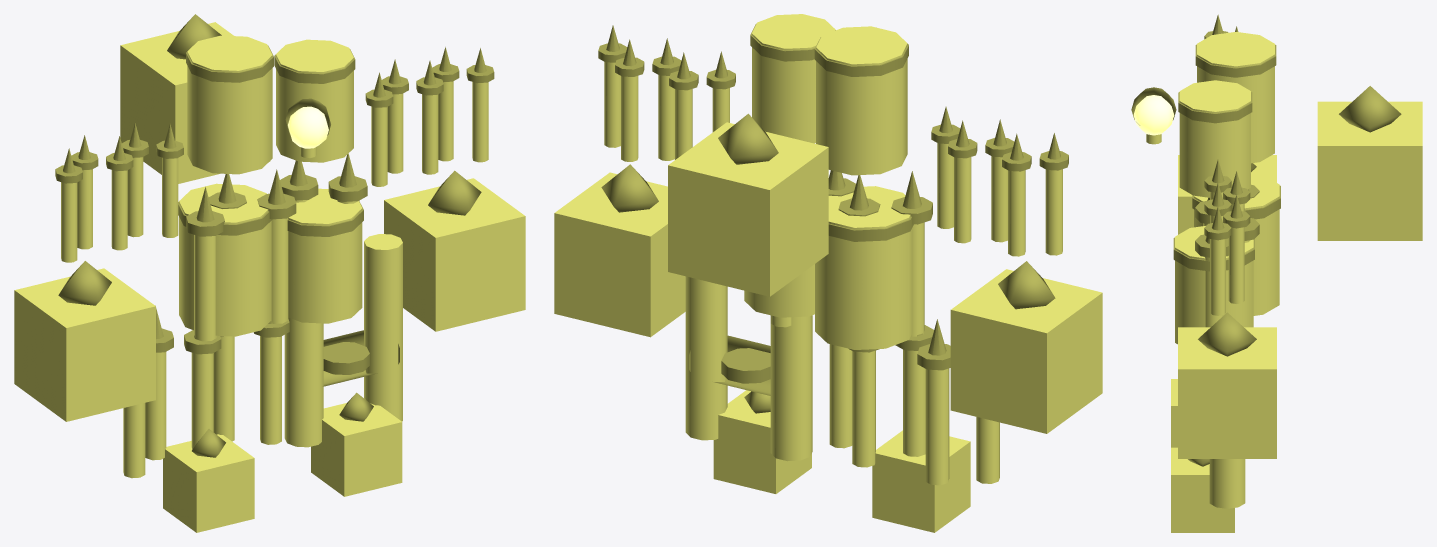
The model's file is golem_016.glb.
3 views of the same model, side by side, from view 1: azimuth 30°, elevation 25°; view 2: azimuth 150°, elevation 25°; view 3: azimuth 270°, elevation 25° (orthographic). The views are drawn at different scales.
Visible parts, largest first — view 1: Body, Detail, Glow; view 2: Body, Detail; view 3: Body, Detail, Glow.
Boxes of the visible parts, left/top/right/bottom form: Body: left=14, top=22, right=525, bottom=532; Detail: left=55, top=14, right=494, bottom=457; Glow: left=288, top=106, right=328, bottom=148; Body: left=554, top=14, right=1102, bottom=532; Detail: left=598, top=23, right=1068, bottom=413; Body: left=1146, top=32, right=1422, bottom=532; Detail: left=1131, top=14, right=1401, bottom=466; Glow: left=1133, top=95, right=1174, bottom=135.
Size of the model in its own units: 1.55 by 1.42 by 0.8924.
